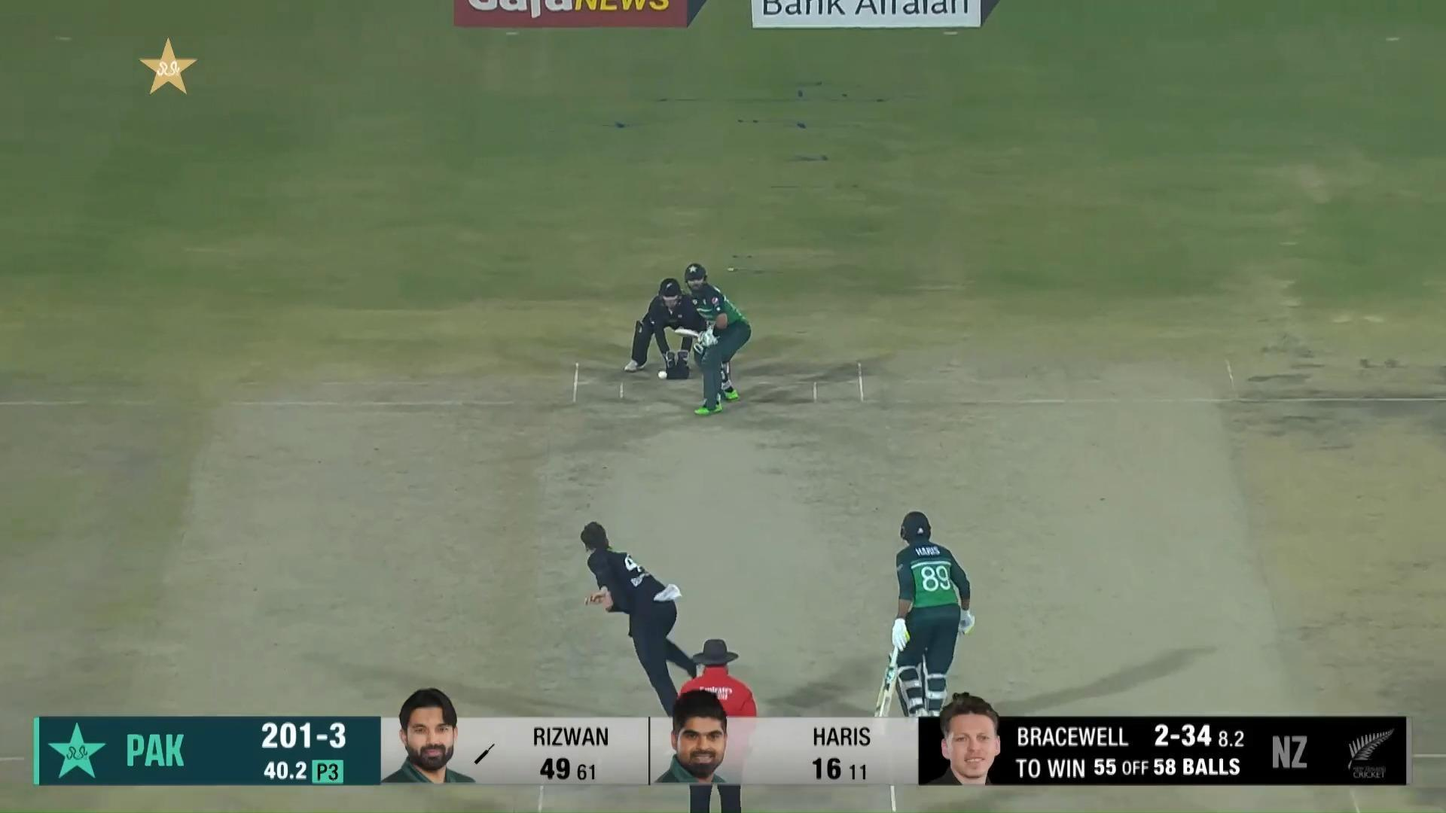BM 1: (674, 263, 752, 416)
BO: (579, 519, 706, 745)
